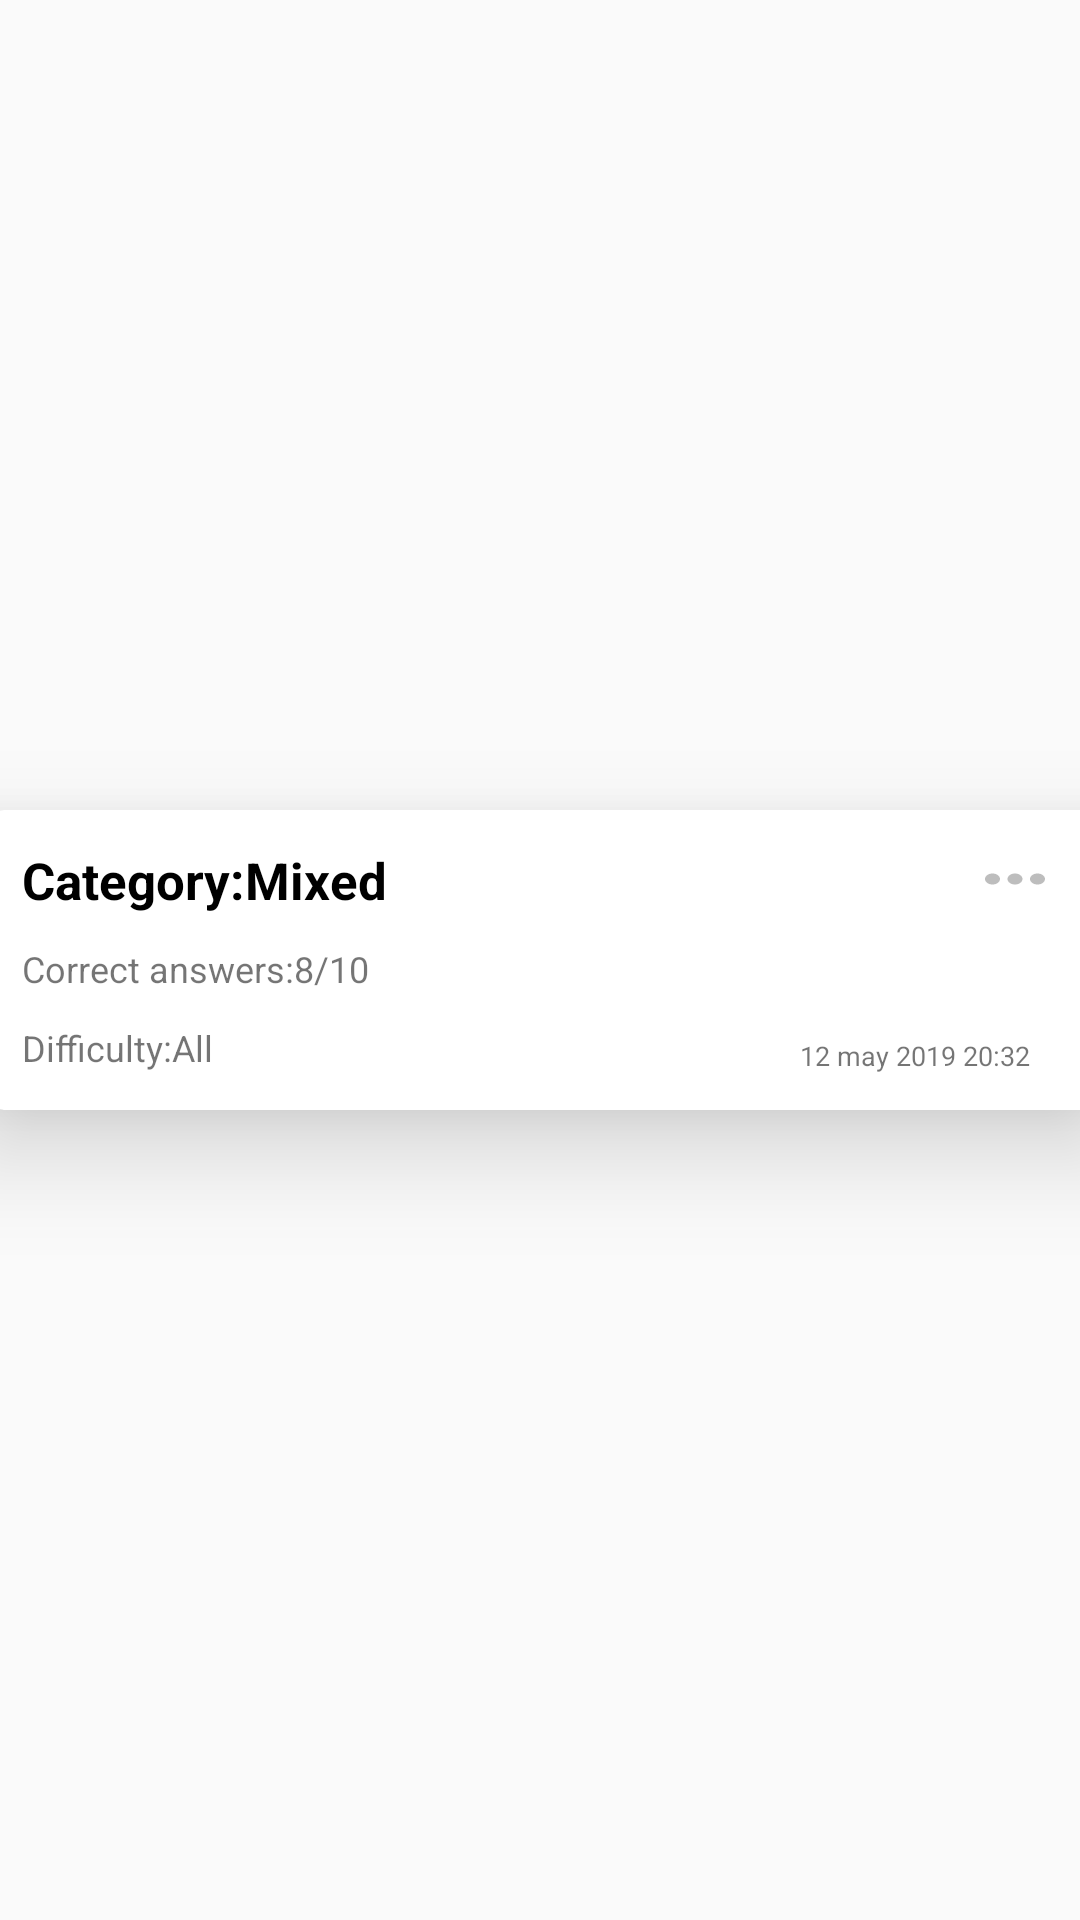

Where to tap for icons on this 1080*1920 app screen, as (x=x, y=y):
triple dots: (x=1015, y=879)
